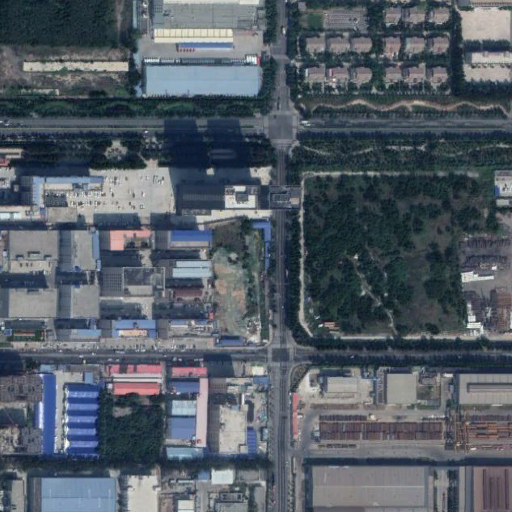cw: (208, 219, 271, 345)
